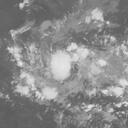cyclone: (36, 29, 103, 100)
